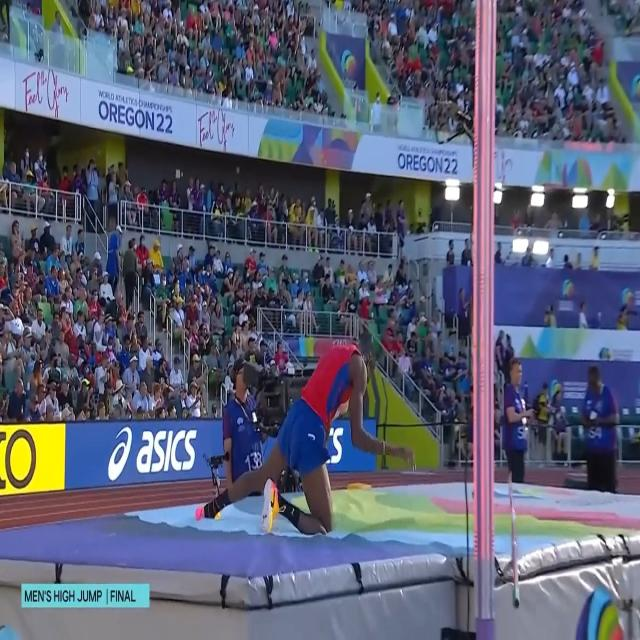land: (194, 333, 416, 539)
